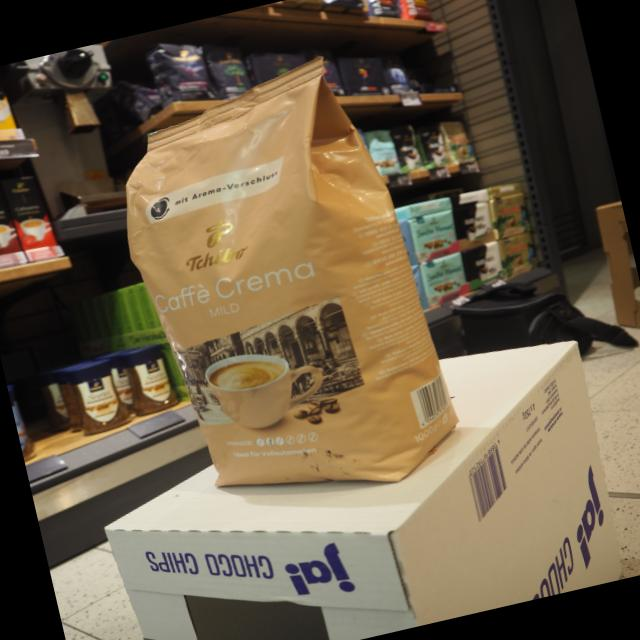CC Mild: (90, 38, 478, 536)
